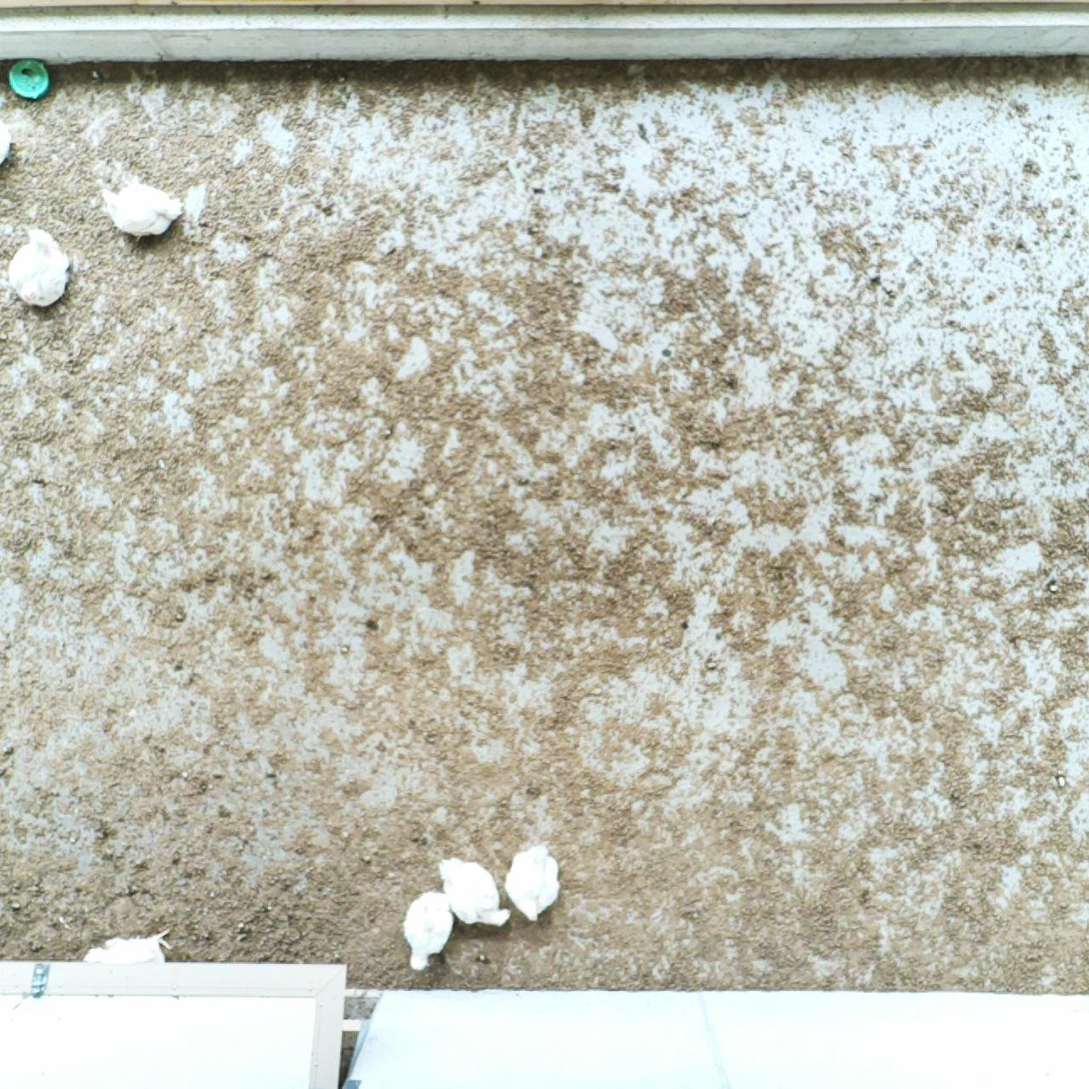chicken: (433, 852, 519, 929), (8, 221, 73, 314), (93, 179, 186, 244), (502, 841, 565, 924), (400, 886, 457, 976), (81, 927, 172, 972), (0, 113, 15, 165)
